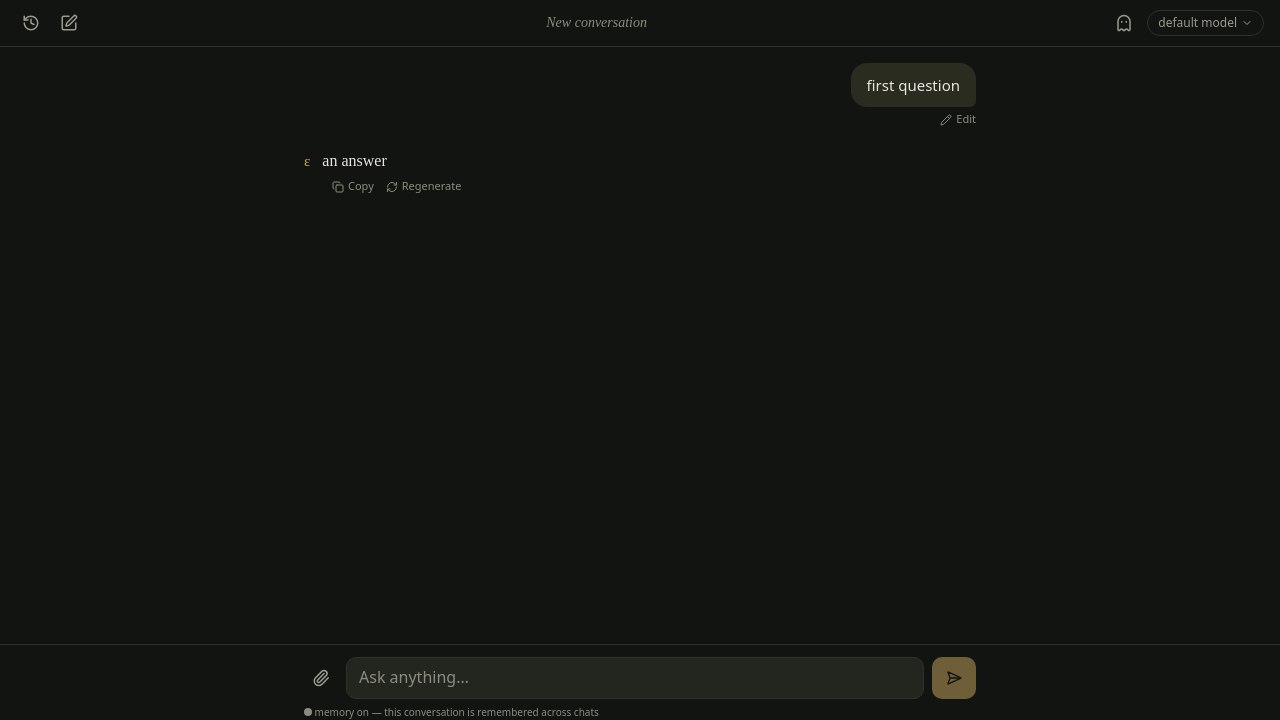
Scenario: Chat tail controls (#302) › opens an inline editor seeded with the message when Edit is clicked
The width and height of the screenshot is (1280, 720).
Step 1. Click the button with aria-label "Edit message" → [958, 120], box [940,111,976,128]
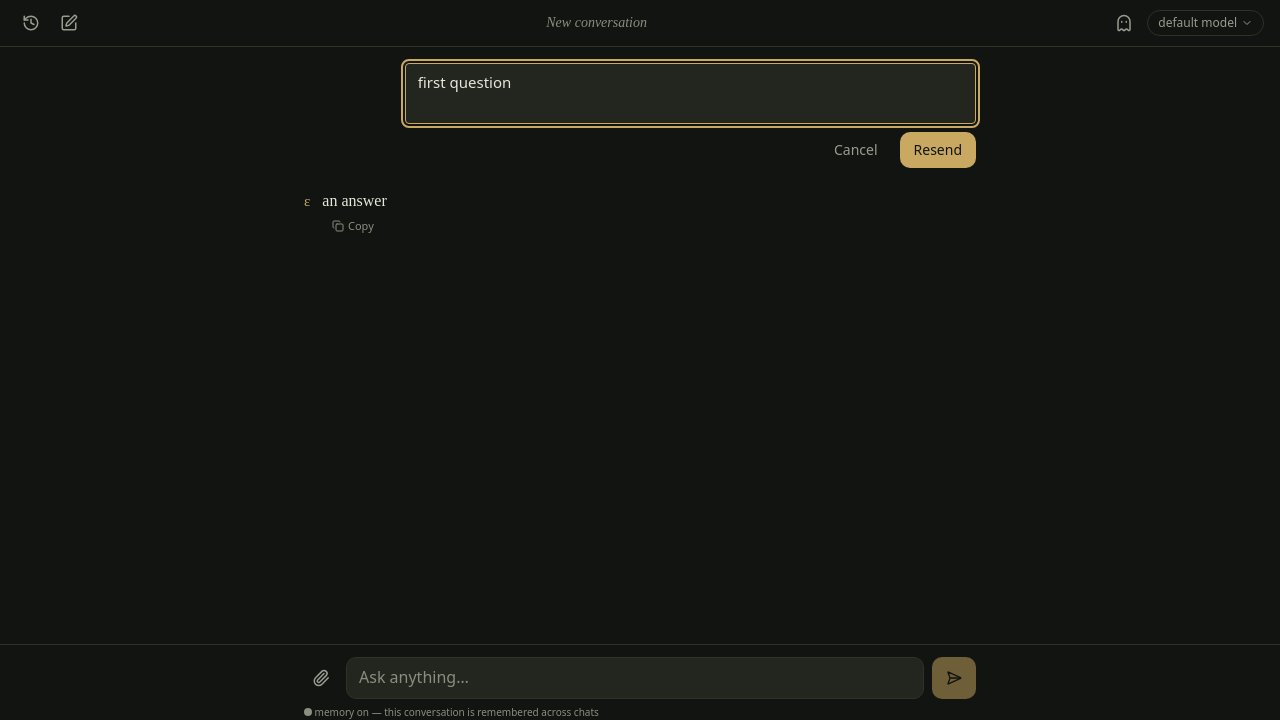
Now the text box named "Edit message" holds "first question", box [405,63,976,124]
Now the button "Resend" is shown, box [900,132,976,168]
